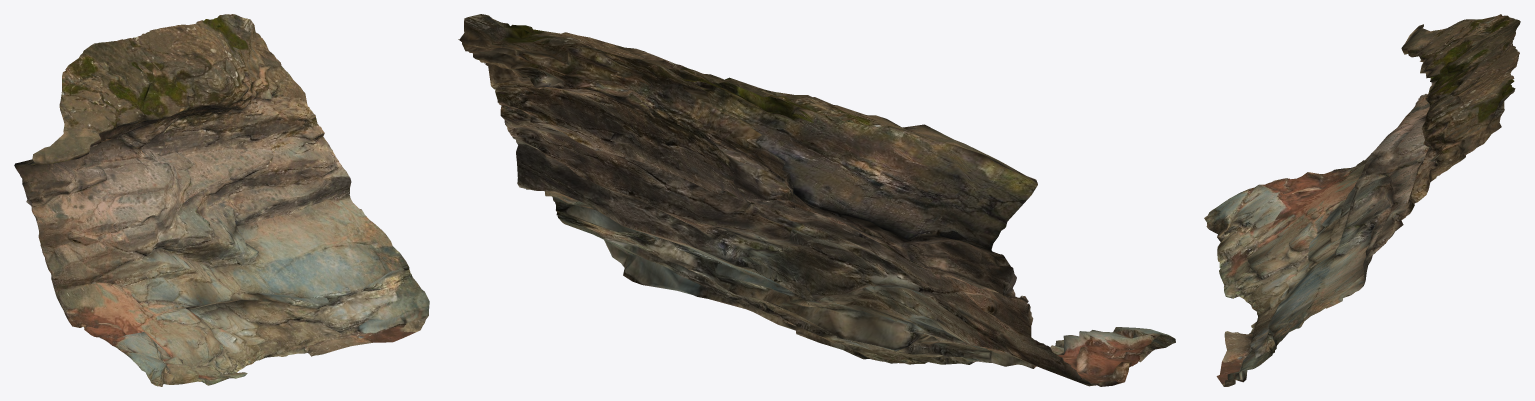
File: cliff_face_1.gltf
The picture shows the model from 3 angles, left to right: view 1: azimuth 30°, elevation 25°; view 2: azimuth 150°, elevation 25°; view 3: azimuth 270°, elevation 25°; orthographic projection. The views are drawn at different scales.
Visible parts, largest first — view 1: cliff_face_1; view 2: cliff_face_1; view 3: cliff_face_1.
Part boxes in pixels (box(x1,y1,x2,y2)): cliff_face_1: box(14, 14, 429, 386); cliff_face_1: box(458, 14, 1175, 386); cliff_face_1: box(1204, 14, 1520, 386).
Bounding box in the file's own units: 9.72 × 7 × 7.52.
1 material, 1 textured.
